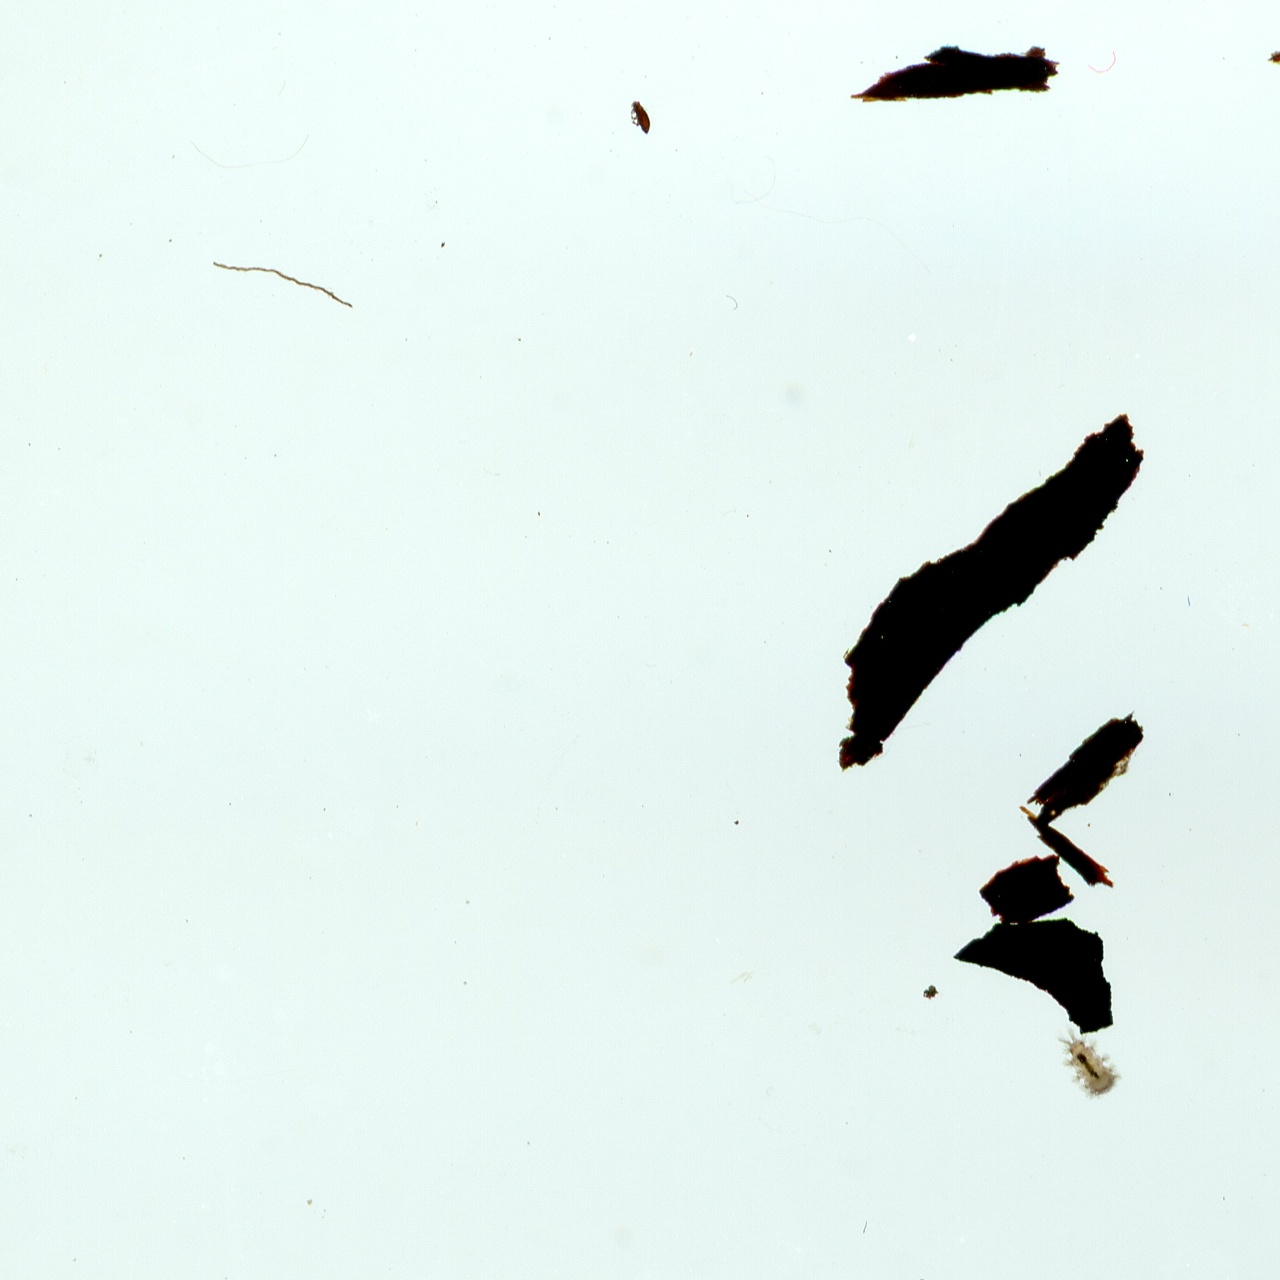arthropod: (1040, 1006, 1136, 1111), (627, 98, 658, 141)
